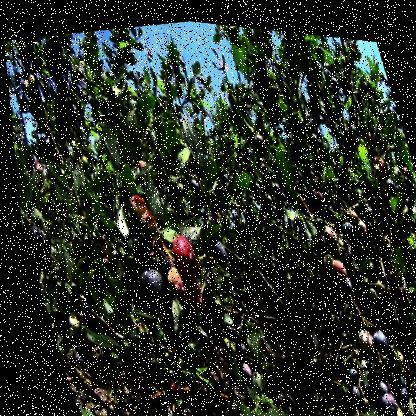intermediate: (122, 186, 162, 243), (163, 228, 200, 278), (157, 259, 185, 298), (343, 196, 369, 234), (315, 215, 342, 250), (325, 248, 345, 278), (305, 179, 324, 206), (368, 143, 389, 163)
mature: (130, 261, 168, 306), (361, 310, 392, 358), (20, 219, 52, 263), (200, 227, 228, 264), (339, 358, 360, 397), (334, 210, 360, 241), (370, 380, 394, 410), (382, 372, 406, 400), (380, 167, 397, 192)
young: (346, 319, 374, 352), (312, 241, 336, 275), (58, 309, 80, 339), (384, 336, 403, 363), (17, 72, 39, 93)
